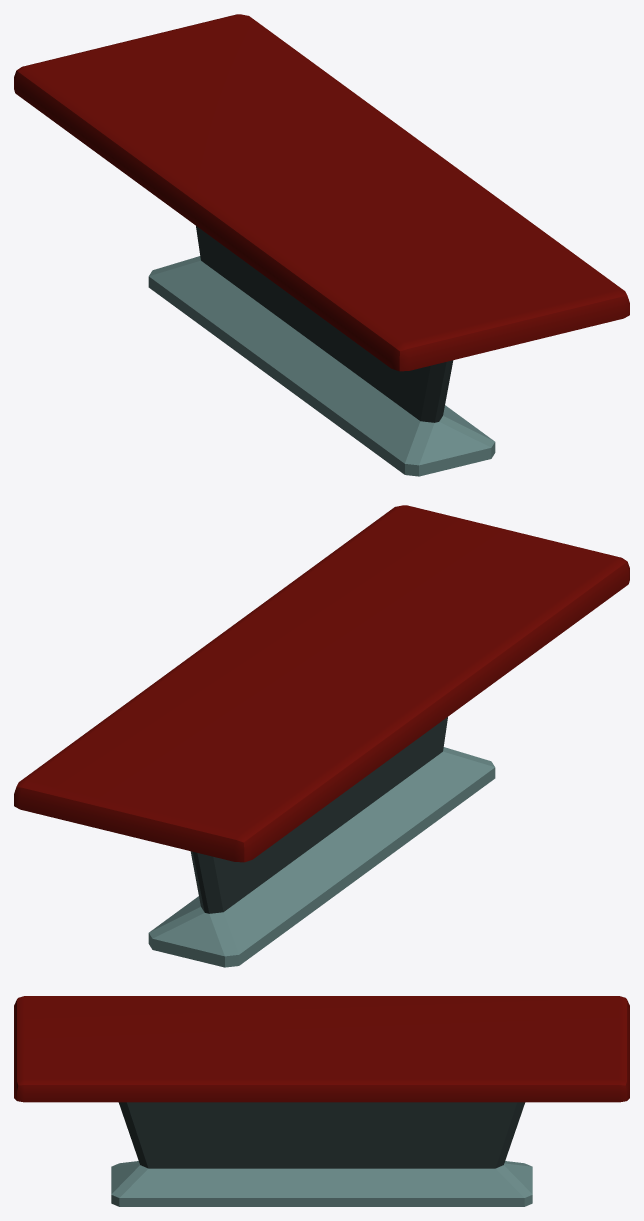
Rendered from Food Court_Long Table.fbx.
3 renders of one model, top to bottom at view 1: azimuth 30°, elevation 25°; view 2: azimuth 150°, elevation 25°; view 3: azimuth 270°, elevation 25°, orthographic. The views are drawn at different scales.
Visible parts, largest first — view 1: pCube3; view 2: pCube3; view 3: pCube3.
Boxes of the visible parts, left/top/right/bottom form: pCube3: left=14, top=14, right=629, bottom=476; pCube3: left=14, top=505, right=629, bottom=967; pCube3: left=14, top=996, right=629, bottom=1206.
Size of the model in its own units: 2.76 by 2.13 by 7.85.
